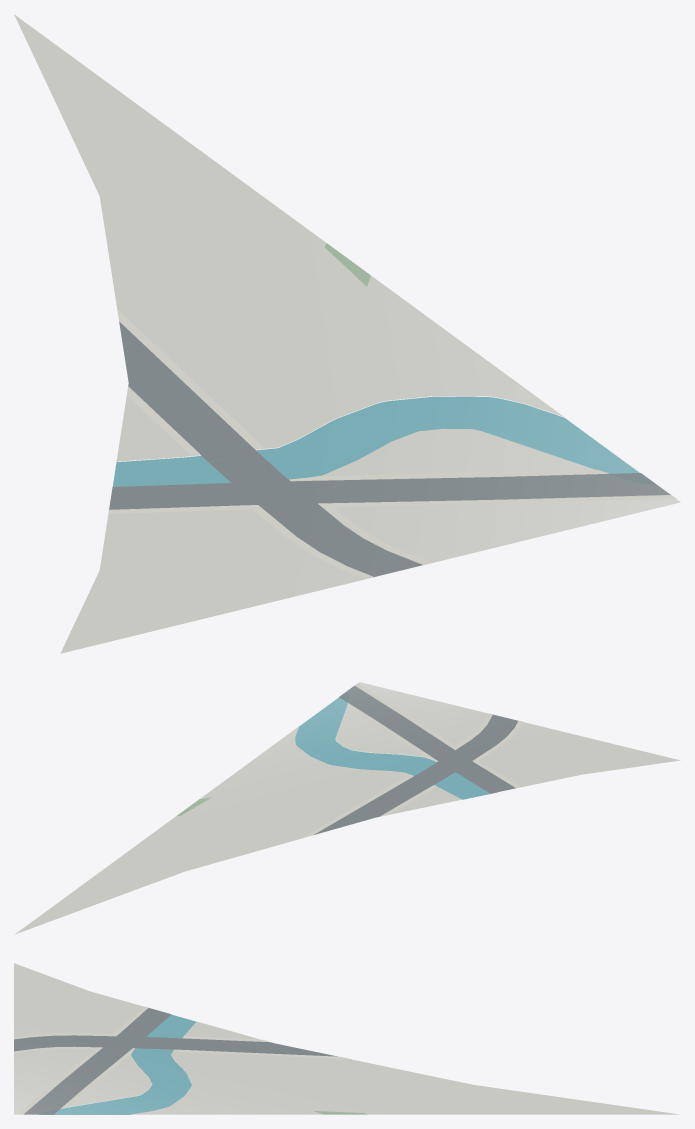
3 renders of one model, top to bottom at view 1: azimuth 30°, elevation 25°; view 2: azimuth 150°, elevation 25°; view 3: azimuth 270°, elevation 25°, orthographic. The views are drawn at different scales.
Visible parts, largest first — view 1: city; view 2: city; view 3: city.
Boxes of the visible parts, left/top/right/bottom form: city: left=14, top=14, right=680, bottom=653; city: left=14, top=682, right=680, bottom=934; city: left=14, top=963, right=679, bottom=1114.
Bounding box in the file's own units: 222 × 0.4 × 413.
